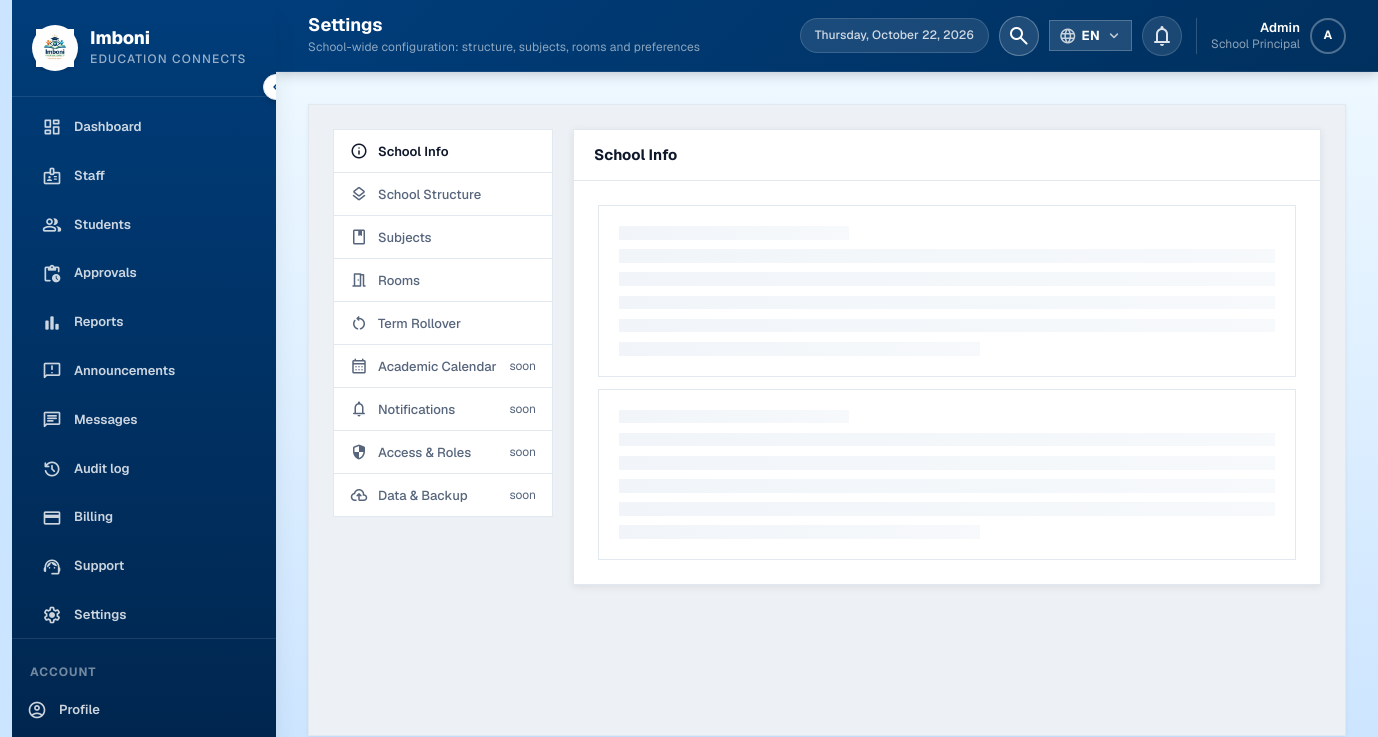
Test: AdminSettings › shows the getting-started message for an empty School Structure
Click the button "School Structure" at (443, 194), box [334,173,552,216]
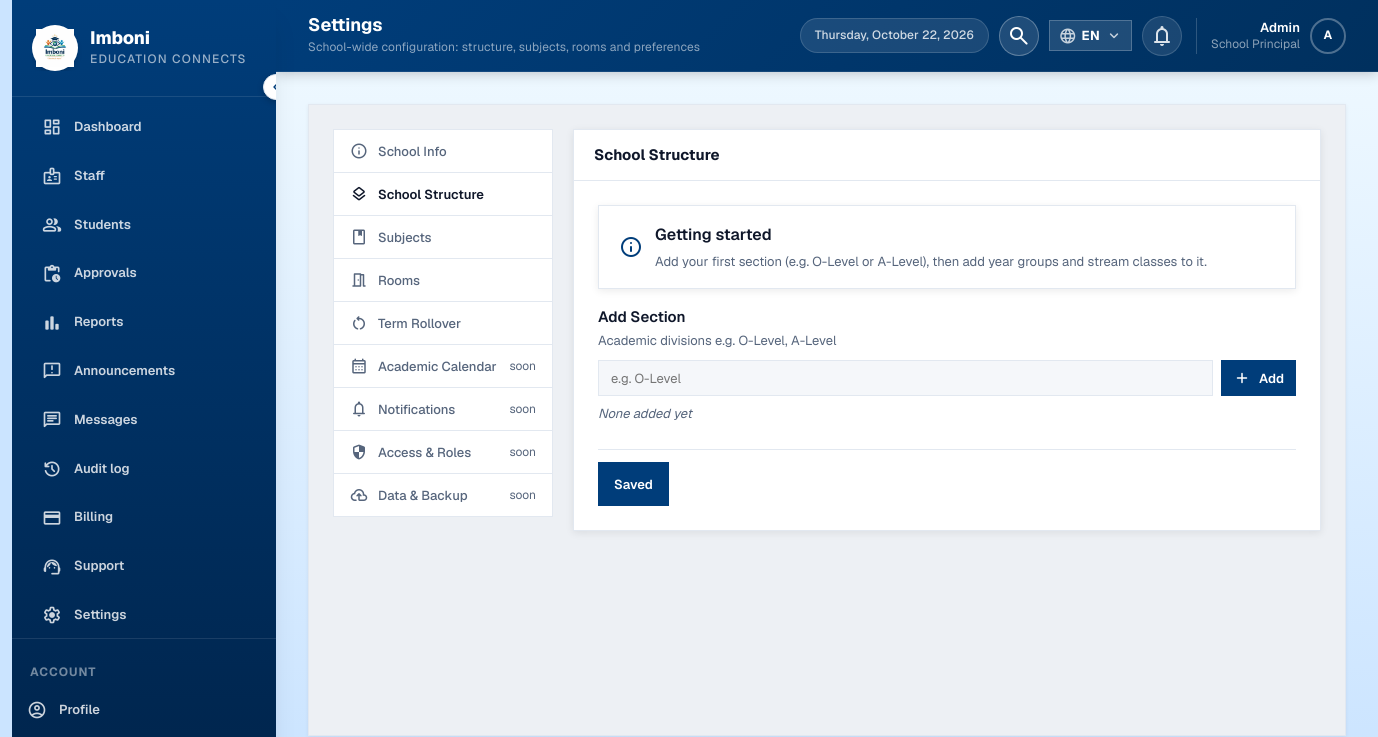
Result: the text "Getting started" is shown at [655,224,772,245]
